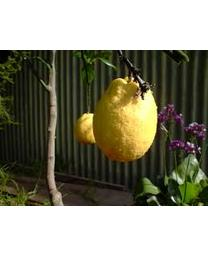lemon: (92, 76, 156, 160)
